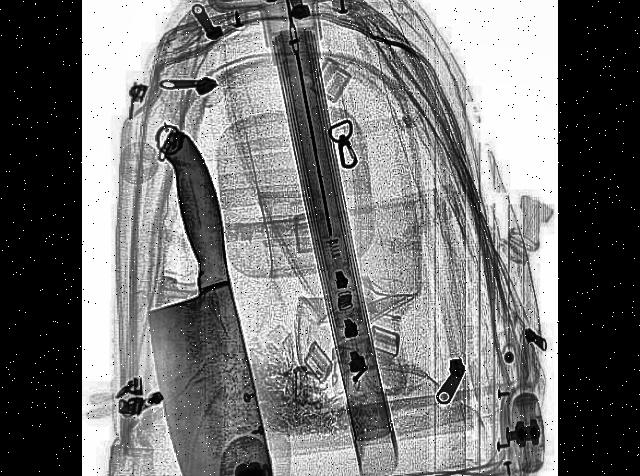Knife: (107, 118, 276, 476)
